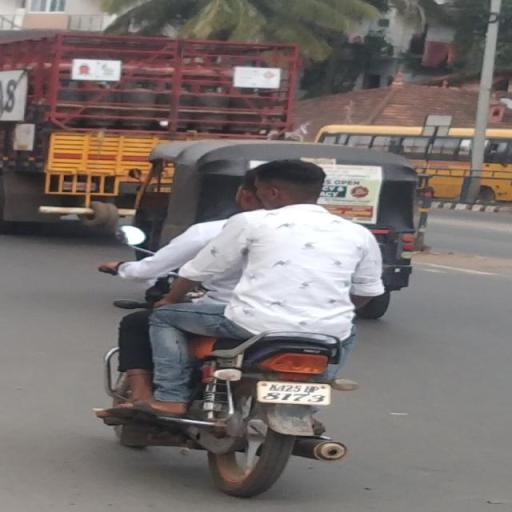bike: (82, 156, 394, 502)
numberplate: (258, 379, 332, 405)
withouthelmet: (257, 161, 324, 207)
